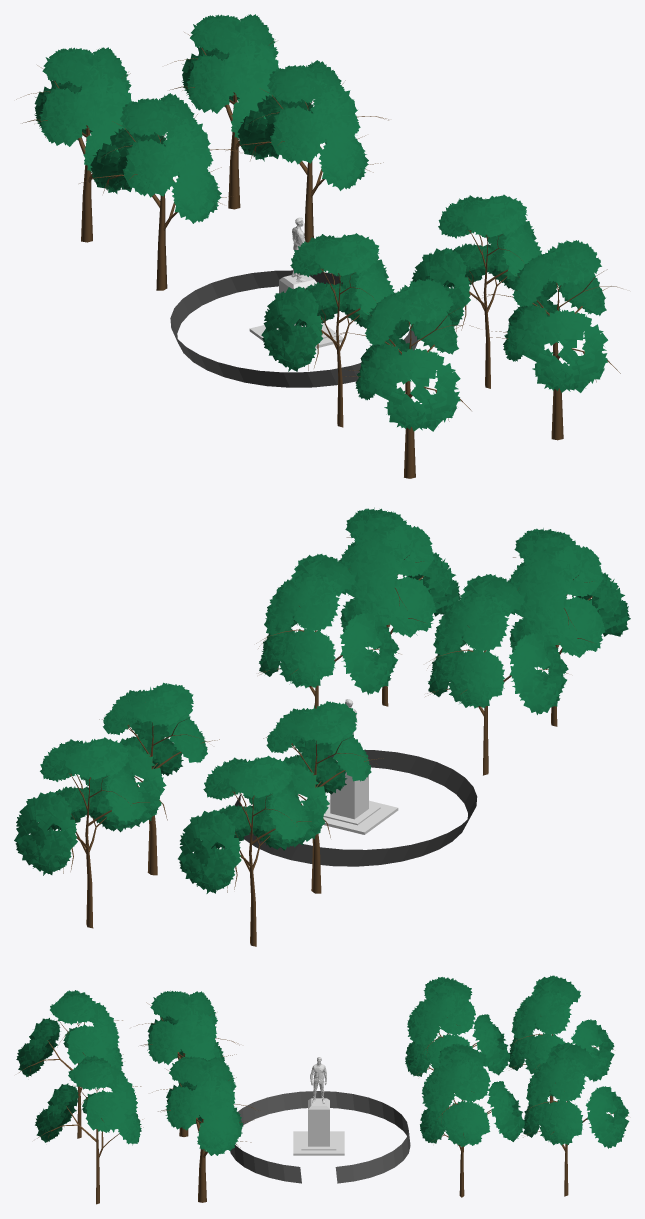
File: 1st_Statue.glb
3 renders of one model, top to bottom at view 1: azimuth 30°, elevation 25°; view 2: azimuth 150°, elevation 25°; view 3: azimuth 270°, elevation 25°, orthographic. The views are drawn at different scales.
Visible parts, largest first — view 1: Leaves_1, Leaves_1.001, Leaves_1.006, Leaves_1.004, Leaves_1.002, Leaves_1.005, Leaves_1.003, Circle, Trunk_0.001, Trunk_0.004, Trunk_0.006, Trunk_0 (+4 smaller); view 2: Leaves_1, Leaves_1.006, Leaves_1.001, Leaves_1.005, Leaves_1.003, Leaves_1.002, Leaves_1.004, Circle, Cube.002, Trunk_0.005, Trunk_0.003, Trunk_0.002 (+1 smaller); view 3: Leaves_1, Leaves_1.002, Leaves_1.003, Leaves_1.004, Leaves_1.005, Leaves_1.001, Circle, Leaves_1.006, Cube.002, Trunk_0.001, Trunk_0, Object_2.
Part boxes in pixels (box(x1,y1,x2,y2)): Leaves_1: box(261, 194, 542, 371); Leaves_1.001: box(503, 240, 607, 392); Leaves_1.006: box(355, 279, 460, 431); Leaves_1.004: box(90, 93, 221, 223); Leaves_1.002: box(237, 60, 368, 190); Leaves_1.005: box(34, 47, 131, 173); Leaves_1.003: box(181, 14, 278, 138); Circle: box(170, 270, 418, 387); Trunk_0.001: box(332, 269, 622, 478); Trunk_0.004: box(79, 114, 239, 290); Trunk_0.006: box(308, 268, 375, 427); Trunk_0: box(456, 230, 522, 388); Leaves_1: box(259, 554, 568, 714); Leaves_1.006: box(507, 528, 630, 657); Leaves_1.001: box(338, 507, 460, 637); Leaves_1.005: box(178, 755, 310, 893); Leaves_1.003: box(14, 737, 147, 875); Leaves_1.002: box(103, 682, 207, 828); Leaves_1.004: box(266, 701, 371, 847); Circle: box(235, 750, 477, 866); Cube.002: box(323, 760, 398, 834); Trunk_0.005: box(210, 791, 311, 946); Trunk_0.003: box(63, 773, 149, 928); Trunk_0.002: box(99, 719, 219, 875); Leaves_1: box(147, 990, 243, 1155); Leaves_1.002: box(420, 1043, 524, 1146); Leaves_1.003: box(523, 1042, 629, 1148); Leaves_1.004: box(405, 977, 510, 1076); Leaves_1.005: box(508, 975, 614, 1081); Leaves_1.001: box(35, 1055, 141, 1145); Circle: box(230, 1091, 410, 1183); Leaves_1.006: box(16, 990, 123, 1076); Cube.002: box(293, 1098, 344, 1155); Trunk_0.001: box(19, 1020, 143, 1204); Trunk_0: box(152, 1069, 255, 1202); Object_2: box(310, 1057, 326, 1103).
Bounding box in the file's own units: 56.68 × 38.79 × 136.
